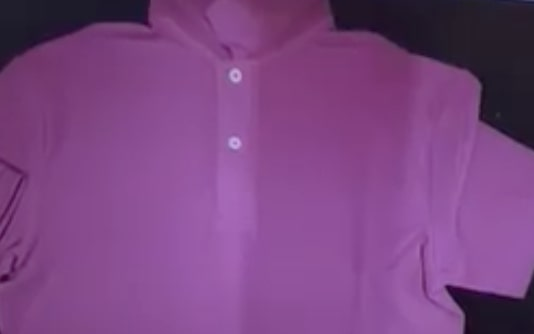button: (225, 63, 247, 85), (225, 132, 245, 155)
